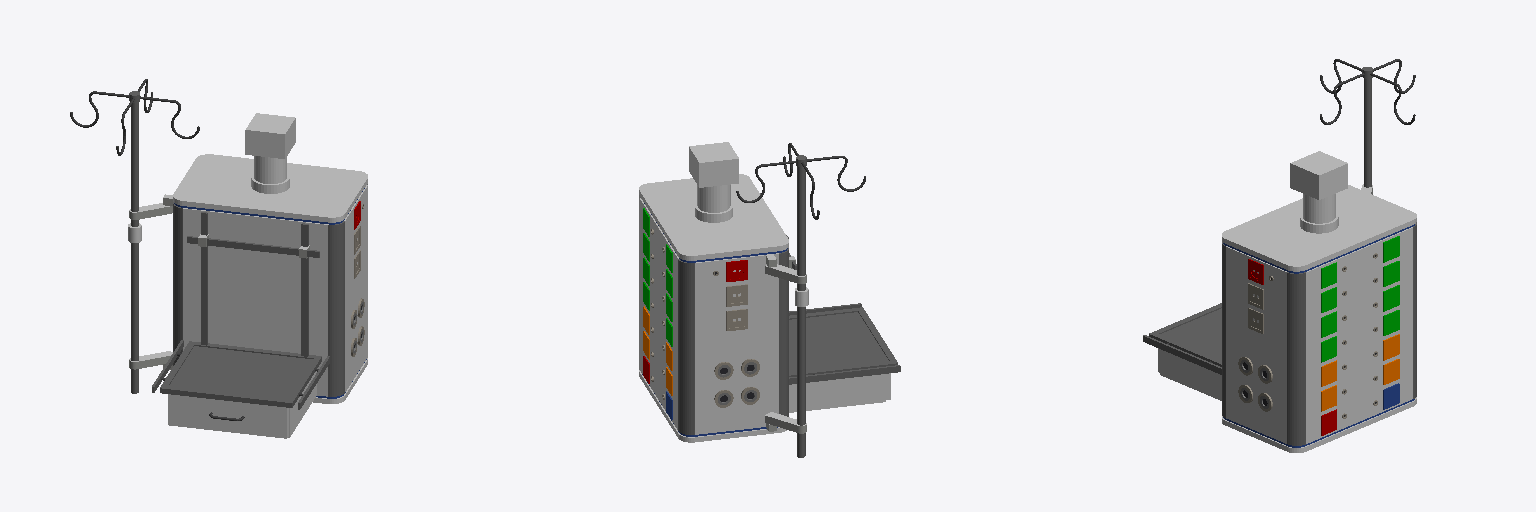
The model's file is stativ.obj.
3 renders of one model, left to right at view 1: azimuth 30°, elevation 25°; view 2: azimuth 150°, elevation 25°; view 3: azimuth 270°, elevation 25°, orthographic.
Visible parts, largest first — view 1: Wand-056.003, Decke-001.006, Decke-002, Hängeschrank_1-teilig_21_-_Objekt-0016, Wand-059, Wand-056.001, Decke-001.001, Kegel_stehend_21_-_Objekt-0015.001, Decke-001.010, Wand-056.002, Wandnr.-0155.006, Wand-039.002 (+2 smaller); view 2: Wand-057, Decke-001.006, Wand-058, Decke-002, Wand-056.004, Hängeschrank_1-teilig_21_-_Objekt-0016, Kegel_stehend_21_-_Objekt-0015.001, Decke-001.010, Wand-056.002, Decke-001.001, Decke-001.004, Decke-001.002 (+1 smaller); view 3: Wand-058, Wand-059, Decke-001.006, Wand-056, Decke-001.010, Hängeschrank_1-teilig_21_-_Objekt-0016, Decke-002, Decke-001.002, Kegel_stehend_21_-_Objekt-0015.001, Decke-001.004, Decke-001.001, Wand-056.004 (+2 smaller).
Boxes of the visible parts, x1=… form: Wand-056.003: x1=183, y1=208, x2=328, y2=396; Decke-001.006: x1=173, y1=154, x2=367, y2=222; Decke-002: x1=169, y1=346, x2=312, y2=399; Hängeschrank_1-teilig_21_-_Objekt-0016: x1=168, y1=371, x2=316, y2=438; Wand-059: x1=344, y1=185, x2=367, y2=391; Wand-056.001: x1=328, y1=221, x2=344, y2=396; Decke-001.001: x1=160, y1=341, x2=321, y2=407; Kegel_stehend_21_-_Objekt-0015.001: x1=131, y1=103, x2=138, y2=393; Decke-001.010: x1=245, y1=113, x2=295, y2=158; Wand-056.002: x1=173, y1=202, x2=182, y2=365; Wandnr.-0155.006: x1=301, y1=223, x2=308, y2=356; Wand-039.002: x1=187, y1=236, x2=319, y2=257; Wand-057: x1=695, y1=253, x2=778, y2=434; Decke-001.006: x1=639, y1=174, x2=788, y2=260; Wand-058: x1=639, y1=198, x2=678, y2=429; Decke-002: x1=789, y1=312, x2=888, y2=371; Wand-056.004: x1=678, y1=259, x2=694, y2=434; Hängeschrank_1-teilig_21_-_Objekt-0016: x1=789, y1=373, x2=890, y2=412; Kegel_stehend_21_-_Objekt-0015.001: x1=797, y1=167, x2=805, y2=457; Decke-001.010: x1=689, y1=142, x2=738, y2=187; Wand-056.002: x1=779, y1=248, x2=788, y2=416; Decke-001.001: x1=789, y1=307, x2=897, y2=376; Decke-001.004: x1=697, y1=185, x2=730, y2=212; Decke-001.002: x1=639, y1=370, x2=786, y2=442; Wand-058: x1=1306, y1=227, x2=1412, y2=443; Wand-059: x1=1226, y1=246, x2=1286, y2=443; Decke-001.006: x1=1222, y1=185, x2=1416, y2=271; Wand-056: x1=1287, y1=272, x2=1305, y2=445; Decke-001.010: x1=1290, y1=151, x2=1347, y2=199; Hängeschrank_1-teilig_21_-_Objekt-0016: x1=1158, y1=348, x2=1221, y2=400; Decke-002: x1=1160, y1=308, x2=1221, y2=359; Decke-001.002: x1=1222, y1=397, x2=1416, y2=452; Kegel_stehend_21_-_Objekt-0015.001: x1=1364, y1=78, x2=1371, y2=187; Decke-001.004: x1=1303, y1=194, x2=1335, y2=223; Decke-001.001: x1=1149, y1=303, x2=1221, y2=366; Wand-056.004: x1=1413, y1=222, x2=1416, y2=398.
Bounding box in the file's own units: 1 × 1.2 × 0.998.